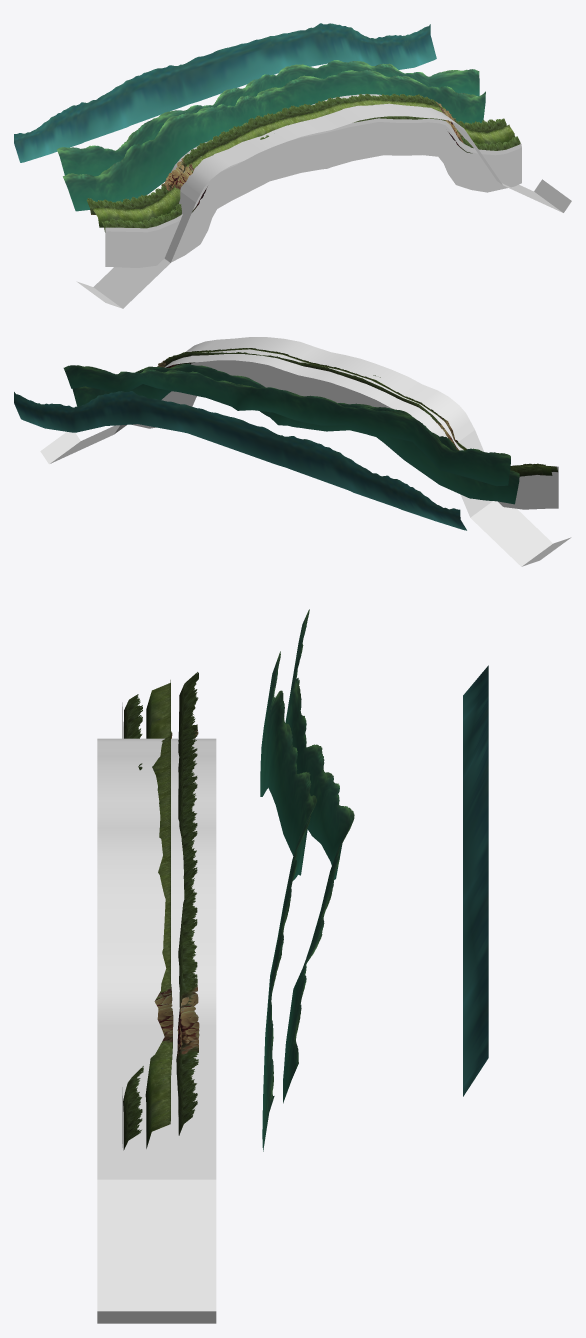
Rendered from End Scene.FBX.
3 renders of one model, top to bottom at view 1: azimuth 30°, elevation 25°; view 2: azimuth 150°, elevation 25°; view 3: azimuth 270°, elevation 25°, orthographic. The views are drawn at different scales.
Parts seen in each view (by area): view 1: End Scene Horizon, End Scene Horizon BG, End Scene Black, End Scene Grass, End Scene Col; view 2: End Scene Horizon, End Scene Horizon BG, End Scene Col, End Scene Black, End Scene Grass; view 3: End Scene Col, End Scene Grass, End Scene Horizon, End Scene Horizon BG.
Boxes of the visible parts, x1=… form: End Scene Horizon: x1=57, y1=60, x2=485, y2=211; End Scene Horizon BG: x1=14, y1=23, x2=436, y2=162; End Scene Black: x1=105, y1=118, x2=521, y2=267; End Scene Grass: x1=86, y1=93, x2=520, y2=232; End Scene Col: x1=76, y1=94, x2=571, y2=308; End Scene Horizon: x1=63, y1=363, x2=519, y2=504; End Scene Horizon BG: x1=14, y1=391, x2=466, y2=530; End Scene Col: x1=40, y1=337, x2=571, y2=566; End Scene Black: x1=132, y1=360, x2=558, y2=509; End Scene Grass: x1=157, y1=348, x2=557, y2=476; End Scene Col: x1=97, y1=738, x2=216, y2=1323; End Scene Grass: x1=123, y1=672, x2=199, y2=1150; End Scene Horizon: x1=260, y1=609, x2=354, y2=1151; End Scene Horizon BG: x1=463, y1=665, x2=488, y2=1096.
Size of the model in its own units: 12855 by 4668 by 4221.
